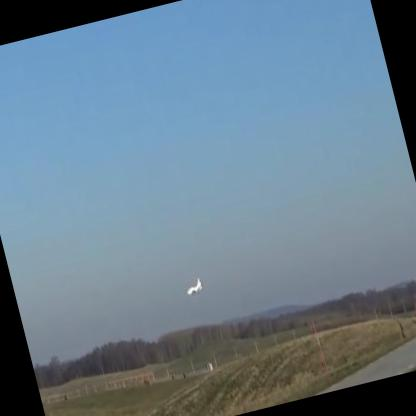plane: (183, 277, 206, 298)
